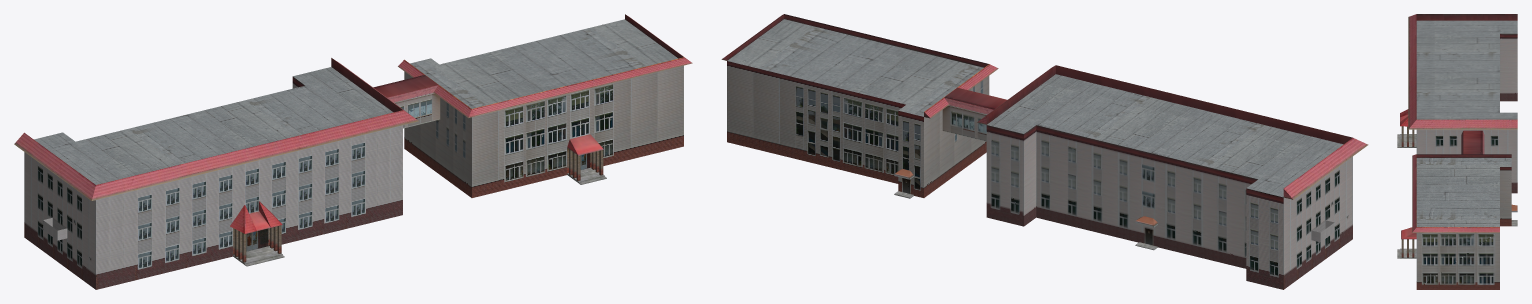
File: lukoil.fbx
3 views of the same model, side by side, from view 1: azimuth 30°, elevation 25°; view 2: azimuth 150°, elevation 25°; view 3: azimuth 270°, elevation 25° (orthographic). The views are drawn at different scales.
Parts seen in each view (by area): view 1: build1, build_2, door6, balcon2, door2; view 2: build1, build_2, balcon2; view 3: build1, build_2, balcon2, door6, door2, door3.
Part boxes in pixels (x1,y1,x2,y2): build1: [14, 58, 418, 289]; build_2: [398, 14, 692, 197]; door6: [230, 202, 284, 266]; balcon2: [373, 75, 440, 128]; door2: [567, 134, 606, 184]; build1: [977, 65, 1368, 289]; build_2: [721, 14, 998, 197]; balcon2: [942, 87, 1006, 141]; build1: [1408, 14, 1517, 193]; build_2: [1412, 154, 1511, 289]; balcon2: [1461, 130, 1484, 154]; door6: [1397, 109, 1416, 147]; door2: [1397, 227, 1416, 258]; door3: [1511, 204, 1517, 226].
Bounding box in the file's own units: 8262 × 1371 × 2027.
